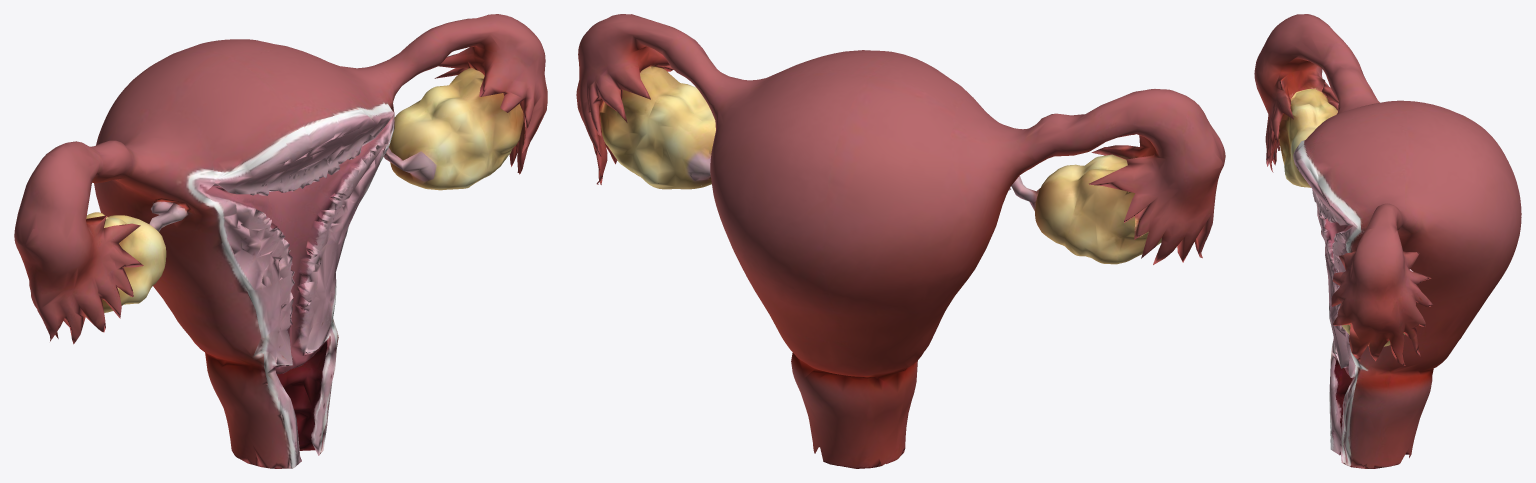
Rendered from ovary.glb.
3 views of the same model, side by side, from view 1: azimuth 30°, elevation 25°; view 2: azimuth 150°, elevation 25°; view 3: azimuth 270°, elevation 25° (orthographic). The views are drawn at different scales.
Parts seen in each view (by area): view 1: tripo_node_9ab65083-774a-4f05-afed-144ec6a847a8; view 2: tripo_node_9ab65083-774a-4f05-afed-144ec6a847a8; view 3: tripo_node_9ab65083-774a-4f05-afed-144ec6a847a8.
Boxes of the visible parts, left/top/right/bottom form: tripo_node_9ab65083-774a-4f05-afed-144ec6a847a8: left=14, top=14, right=547, bottom=468; tripo_node_9ab65083-774a-4f05-afed-144ec6a847a8: left=576, top=14, right=1225, bottom=468; tripo_node_9ab65083-774a-4f05-afed-144ec6a847a8: left=1254, top=14, right=1521, bottom=468.
Size of the model in its own units: 0.9799 by 0.6295 by 0.4612.
Materials: 1 (1 with a texture image).
